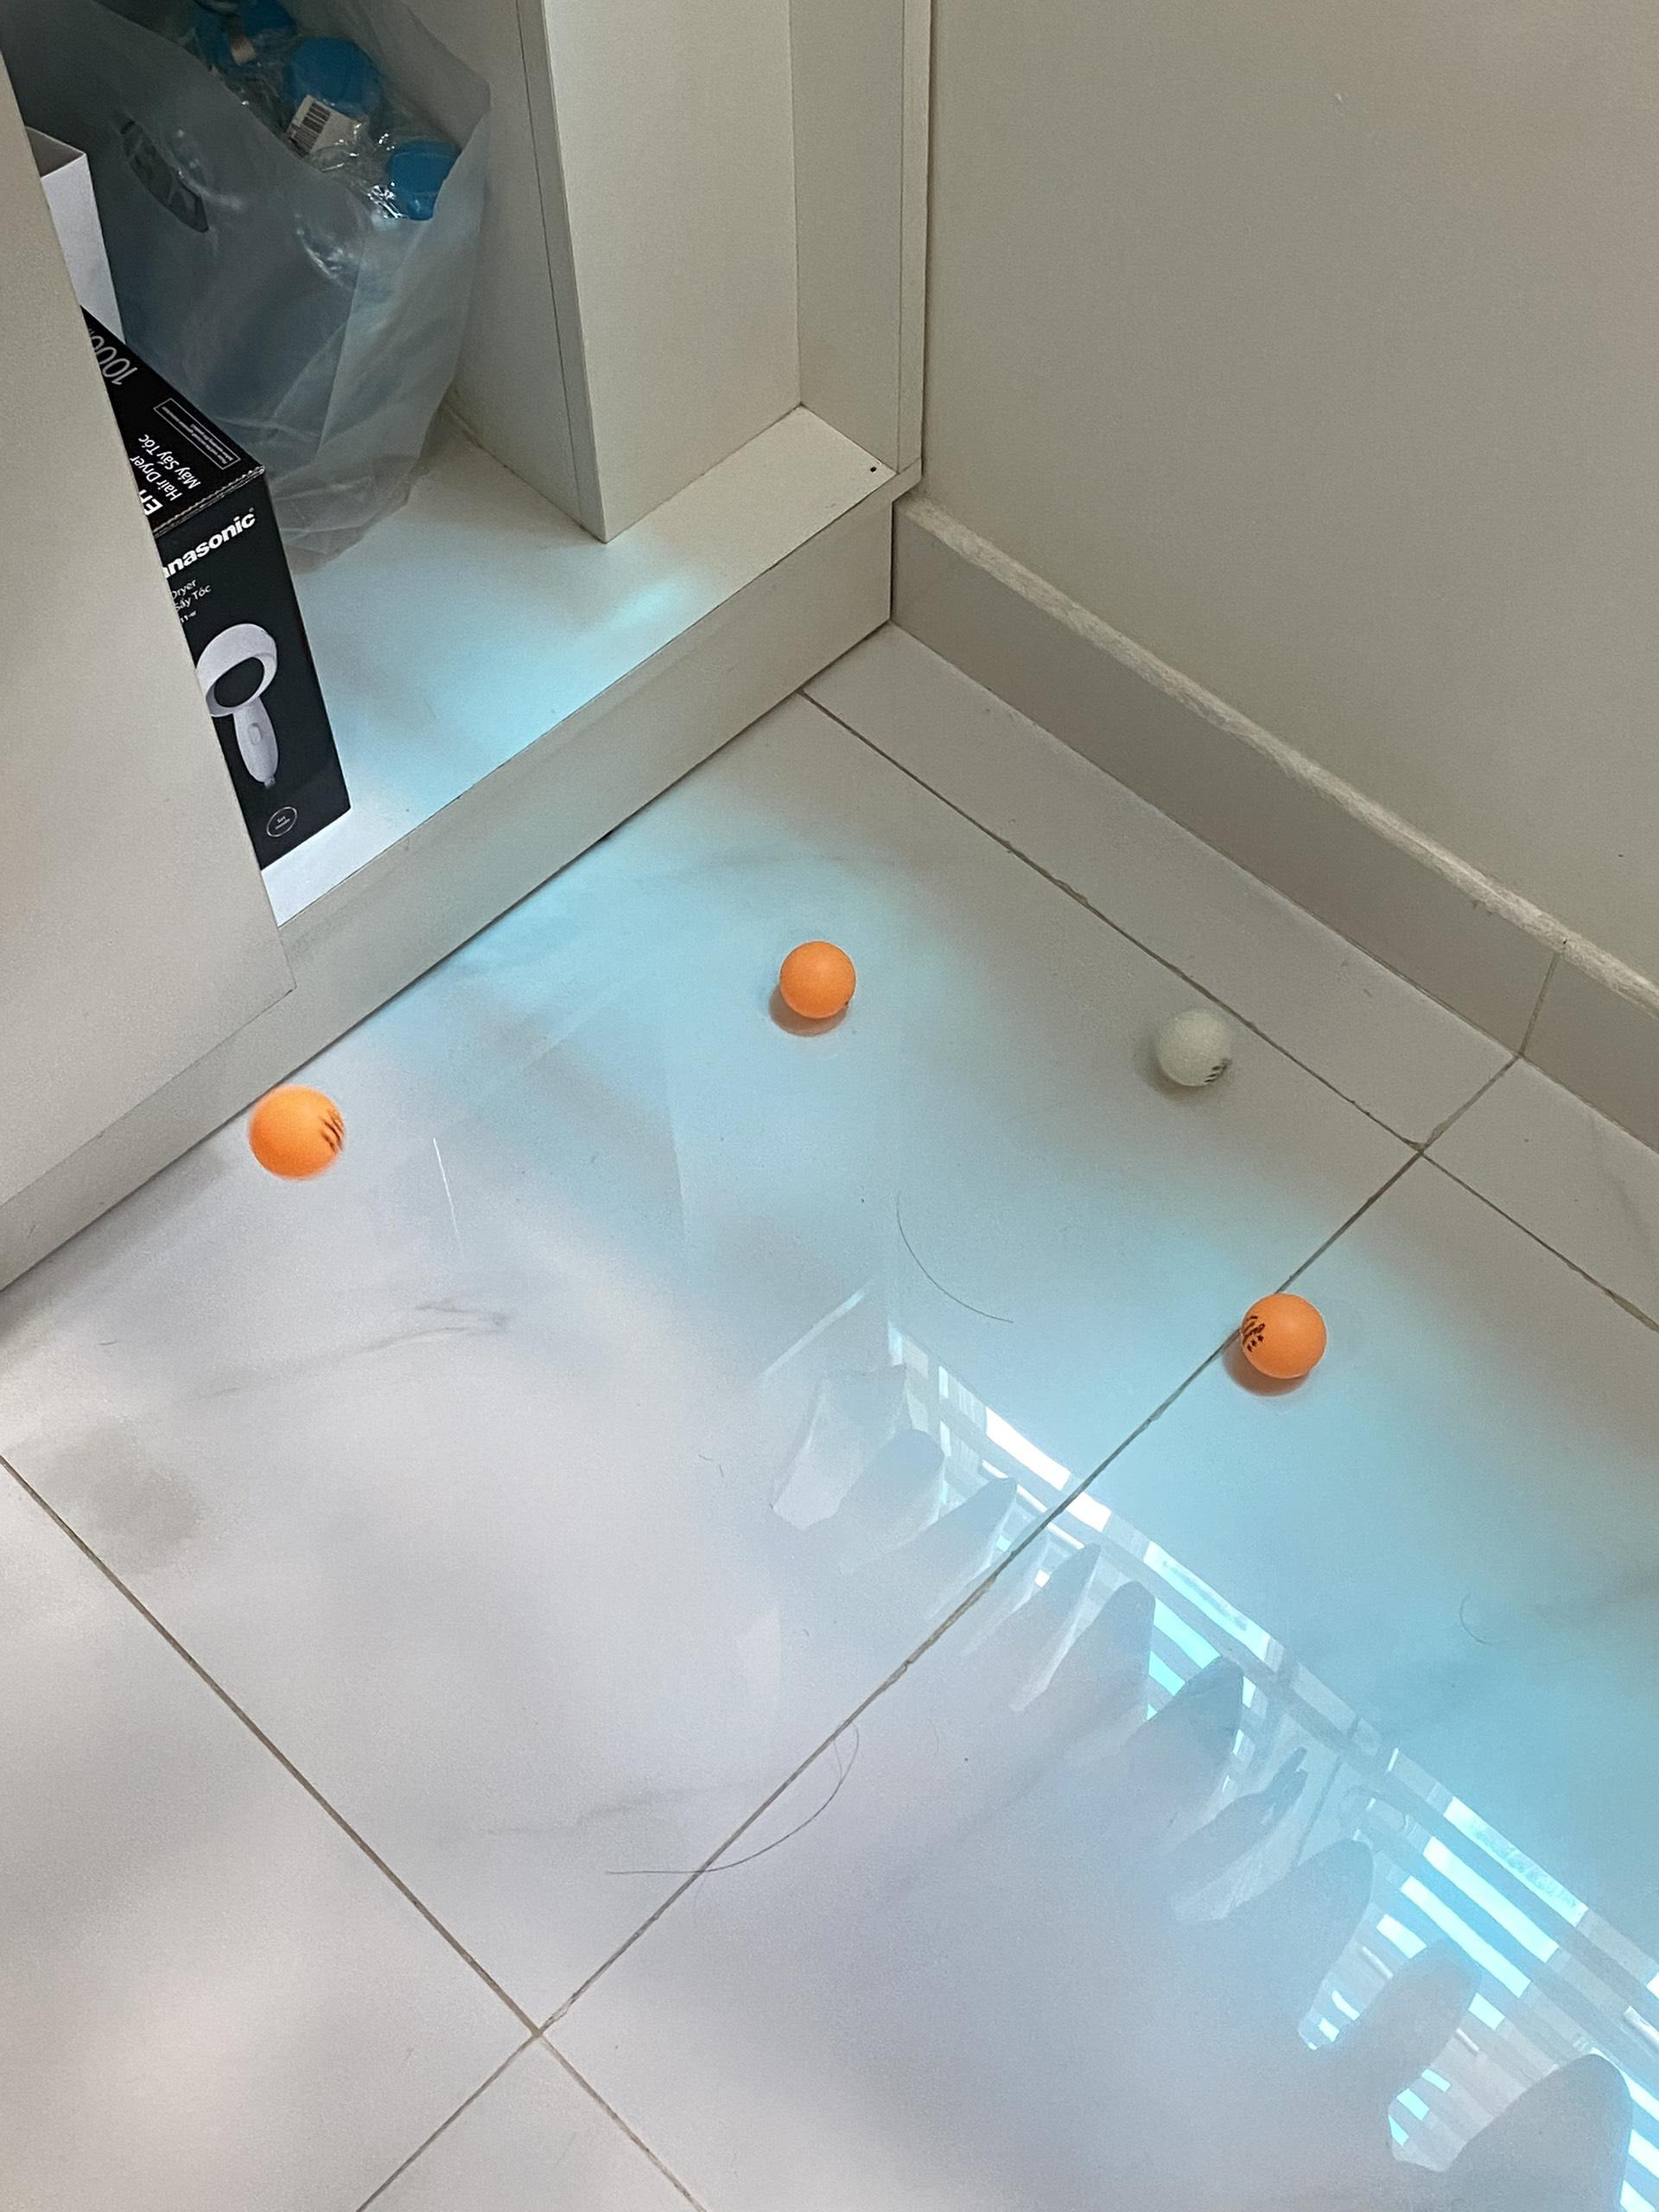oball: (253, 1080, 343, 1184), (1241, 1291, 1331, 1383), (1155, 1001, 1236, 1092), (784, 939, 861, 1017)
